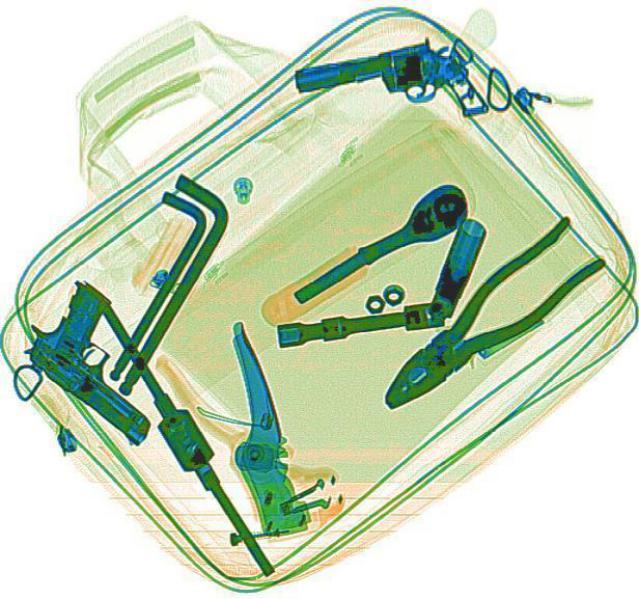Gun: (4, 274, 212, 443), (288, 27, 489, 150)
Pliers: (354, 215, 616, 422)
